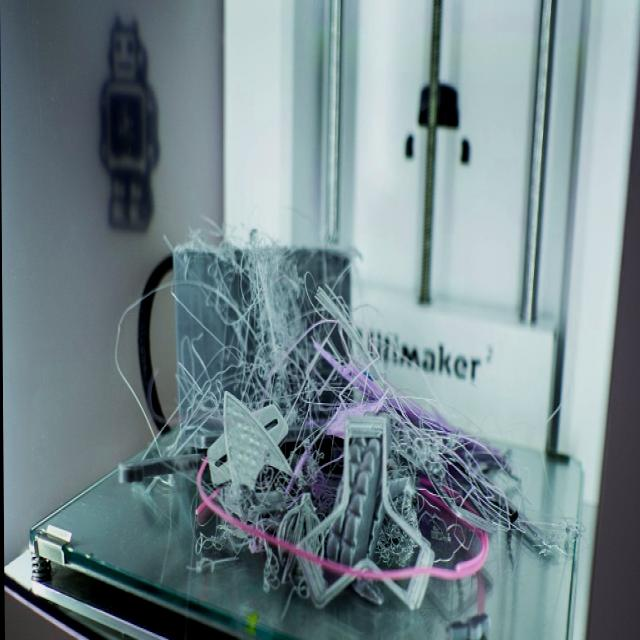spaghetti: (112, 230, 531, 609)
